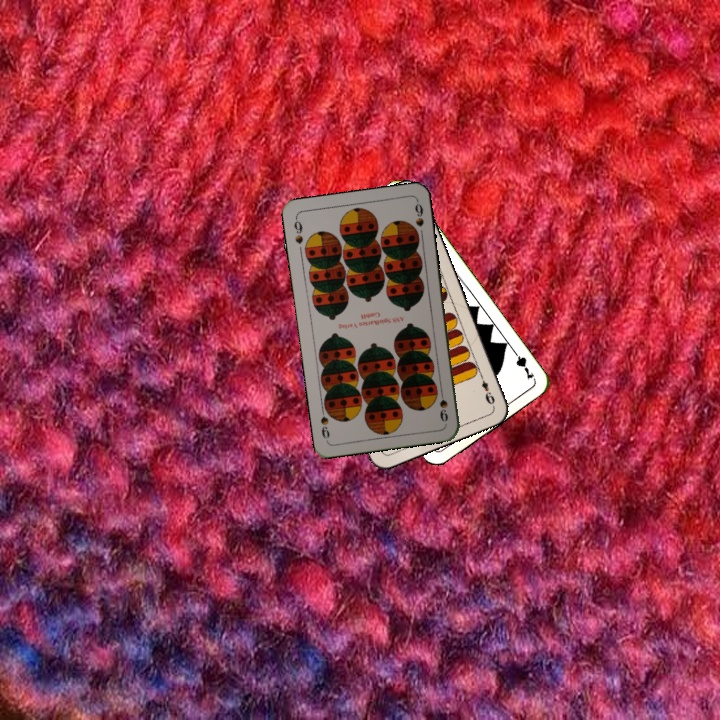E9: (476, 370, 497, 407)
G7: (508, 345, 537, 383)
S9: (435, 384, 451, 425), (290, 214, 306, 247)
